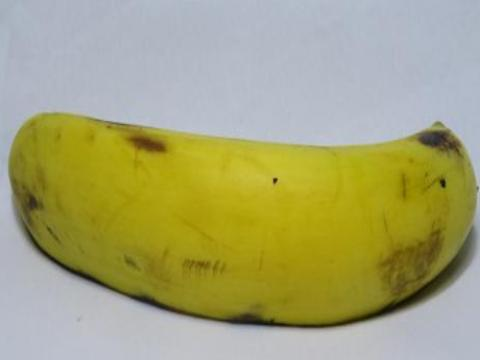freshripe: (0, 93, 479, 337)
